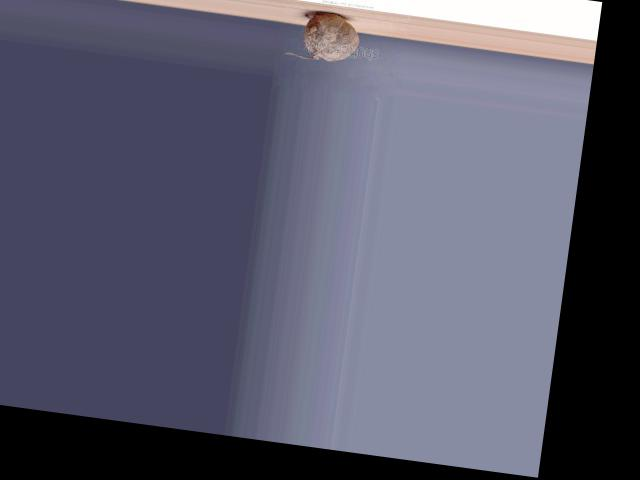beet: (283, 8, 361, 65)
